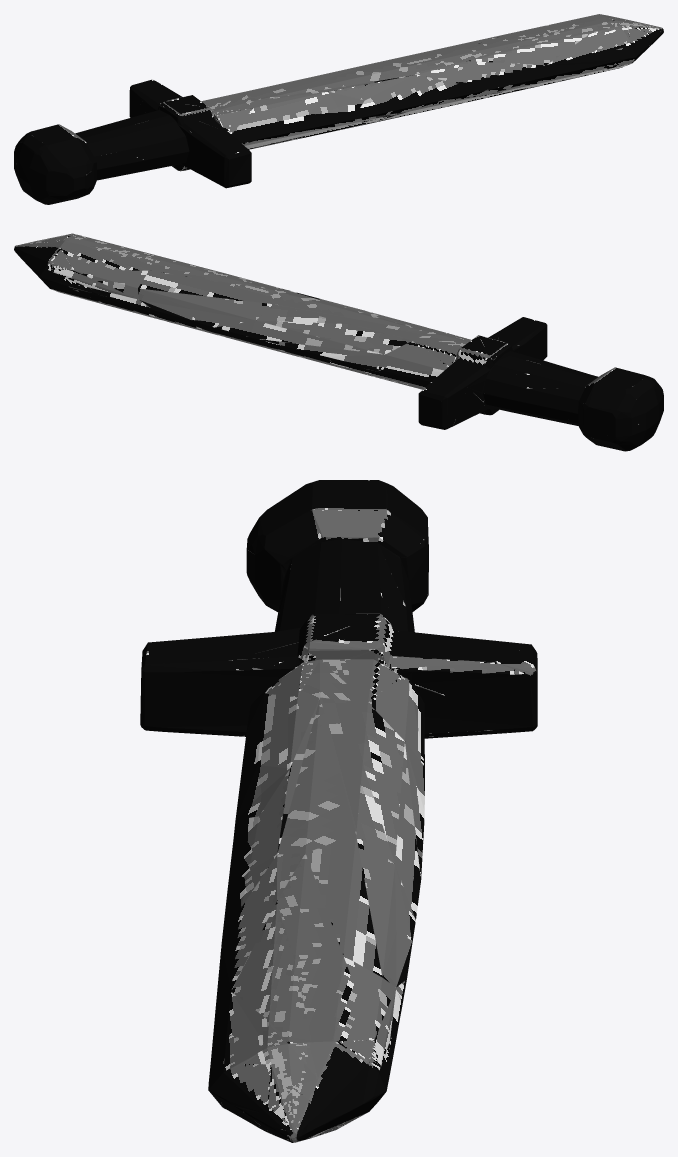
3 views of the same model, one above another, from view 1: azimuth 30°, elevation 25°; view 2: azimuth 150°, elevation 25°; view 3: azimuth 270°, elevation 25° (orthographic). The views are drawn at different scales.
Parts seen in each view (by area): view 1: OBJ00d; view 2: OBJ00d; view 3: OBJ00d.
Part boxes in pixels (x1=…): OBJ00d: x1=14, y1=14, x2=663, y2=204; OBJ00d: x1=14, y1=233, x2=663, y2=451; OBJ00d: x1=140, y1=480, x2=537, y2=1142.
Size of the model in its own units: 0.4301 by 0.0398 by 0.1183.
Materials: 1 (1 with a texture image).
